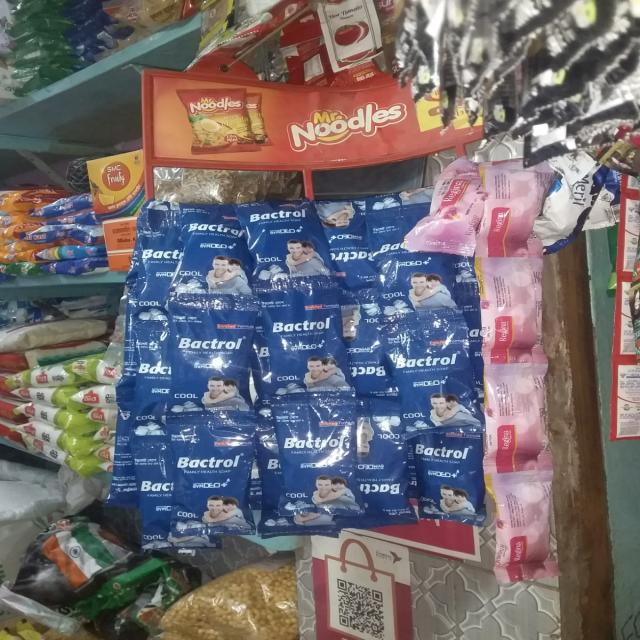non-ubl: (167, 206, 263, 332), (164, 428, 258, 552), (280, 408, 364, 512), (386, 341, 468, 444), (170, 327, 248, 416), (272, 308, 341, 397), (383, 241, 457, 323), (247, 207, 320, 283), (411, 442, 475, 522), (316, 200, 362, 278)
